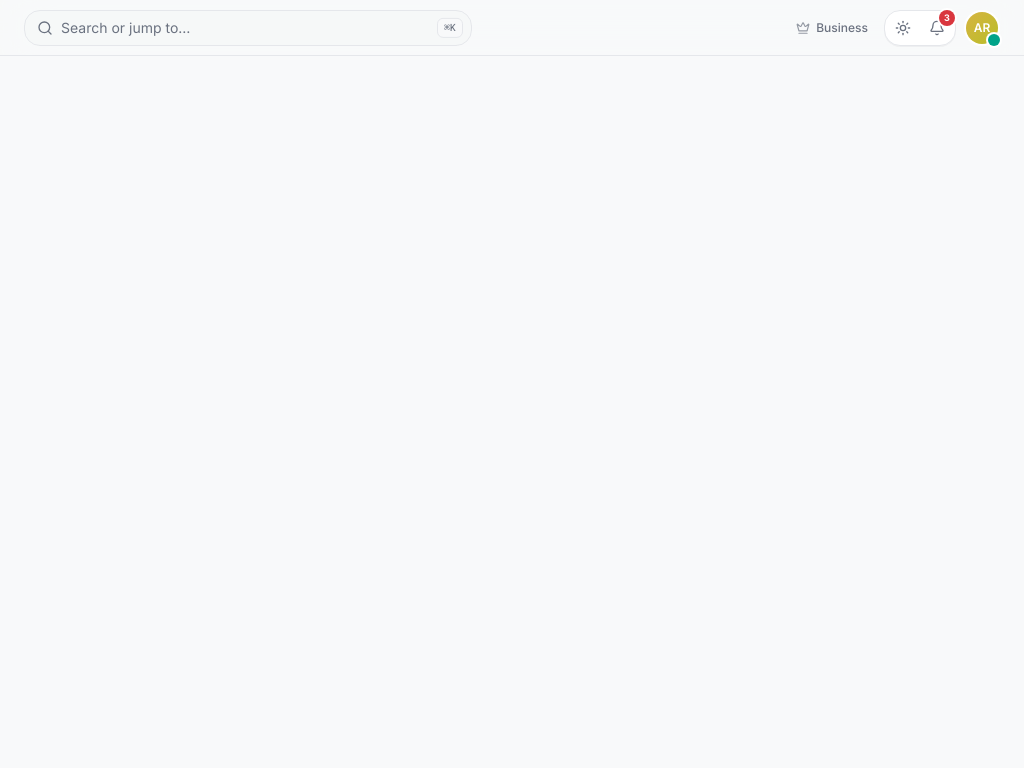
Test case: Topbar notifications › mark-all-read clears the unread badge
Click the button named "Notifications".
click(937, 28)  # box [921, 12, 953, 44]
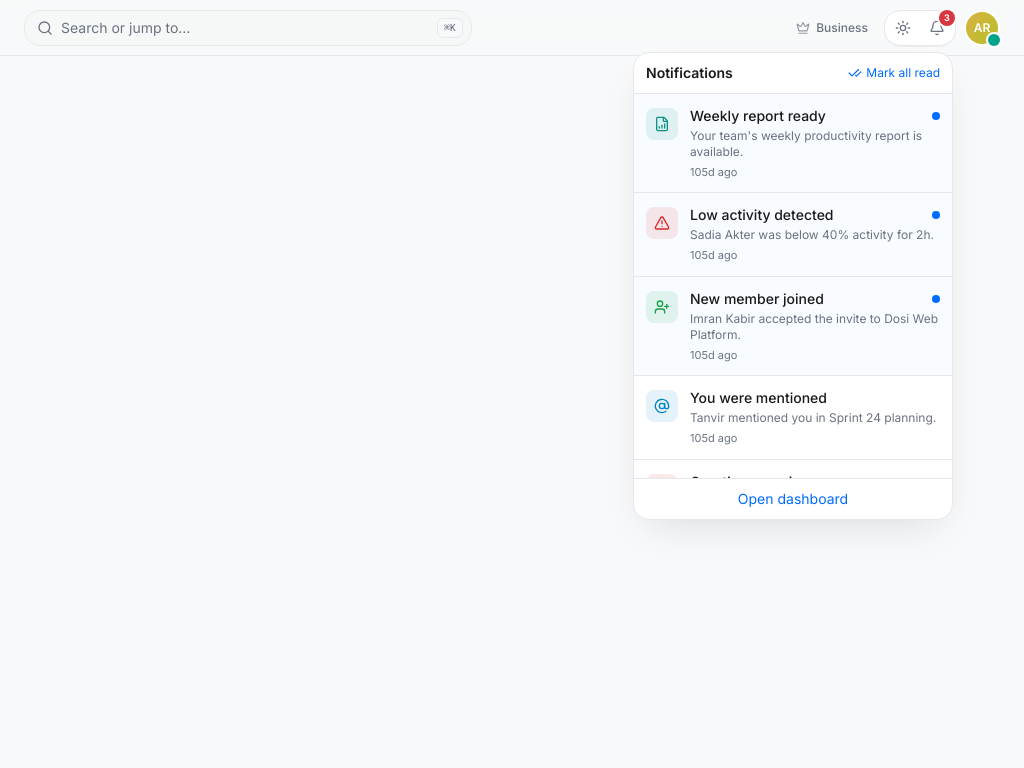
Click the button "Mark all read".
click(894, 72)  # box [848, 64, 940, 80]
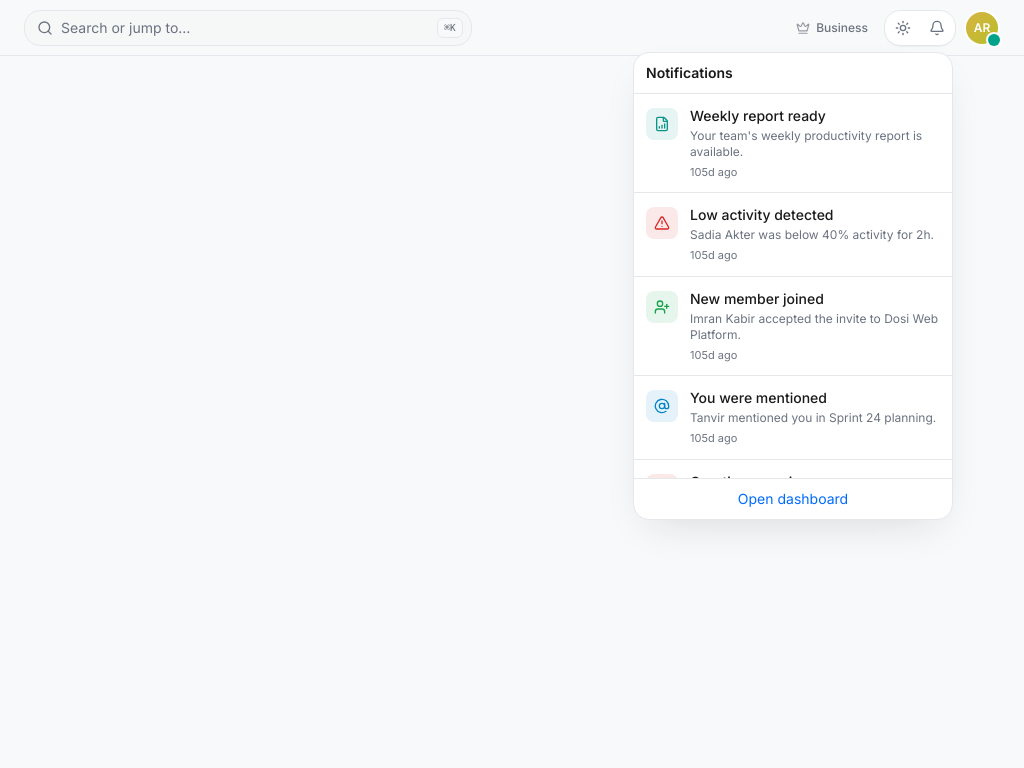
Result: the button "Mark all read" is gone
